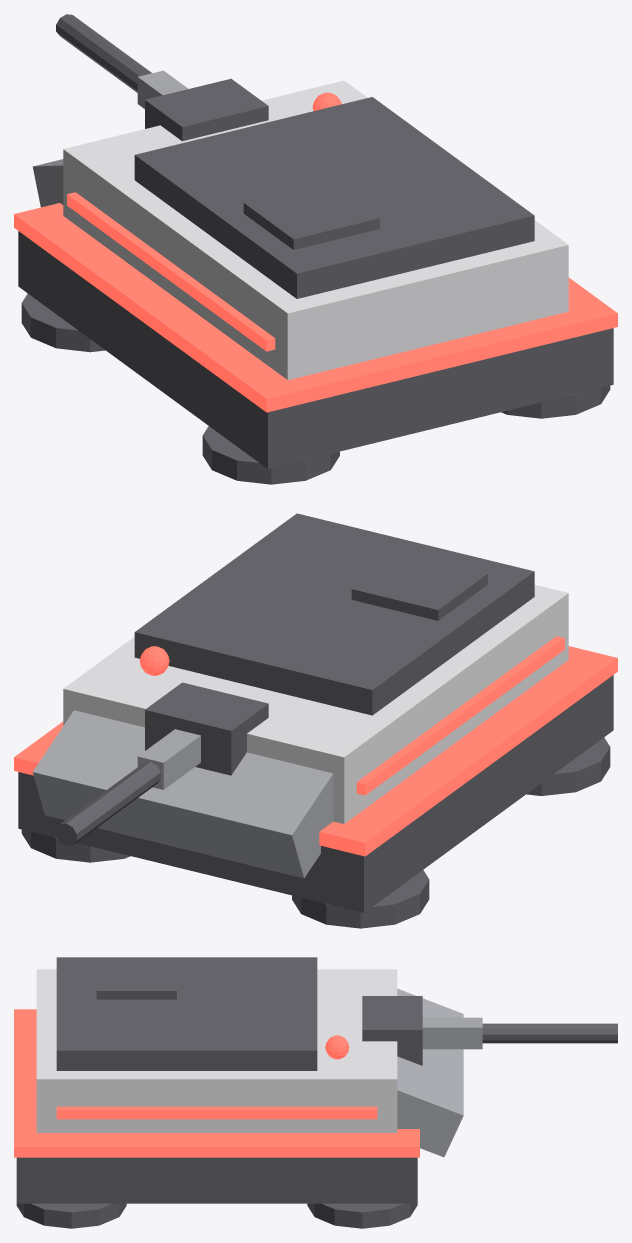
File: jp_tora.glb
3 views of the same model, one above another, from view 1: azimuth 30°, elevation 25°; view 2: azimuth 150°, elevation 25°; view 3: azimuth 270°, elevation 25° (orthographic). The views are drawn at different scales.
Visible parts, largest first — view 1: Deck, Hull, Skirt, SkirtTrim, Hatch, Mantlet, StripR, Pad1, Barrel, Pad-1, Pad-1.001, NosePlate (+1 smaller); view 2: Deck, Hull, NosePlate, Skirt, SkirtTrim, Mantlet, Hatch, StripR, Pad-1, Barrel, Pad1, BarrelShroud (+2 smaller); view 3: Hull, Deck, Skirt, SkirtTrim, NosePlate, StripL, Hatch, Mantlet, Barrel, Pad1.001, Pad-1.001, BarrelShroud (+1 smaller).
Part boxes in pixels (x1,y1,x2,y2): Deck: (134, 97, 534, 298); Hull: (63, 80, 568, 379); Skirt: (18, 231, 613, 468); SkirtTrim: (14, 203, 617, 412); Hatch: (243, 182, 379, 249); Mantlet: (145, 78, 268, 141); StripR: (67, 192, 275, 351); Pad1: (202, 426, 339, 484); Barrel: (56, 14, 151, 92); Pad-1: (21, 293, 105, 352); Pad-1.001: (501, 385, 610, 418); NosePlate: (32, 159, 63, 207); Deck: (134, 513, 534, 715); Hull: (63, 585, 568, 823); NosePlate: (32, 710, 333, 878); Skirt: (18, 675, 613, 912); SkirtTrim: (14, 646, 617, 856); Mantlet: (145, 682, 268, 775); Hatch: (351, 552, 487, 620); StripR: (356, 636, 564, 795); Pad-1: (292, 870, 429, 928); Barrel: (56, 762, 160, 846); Pad1: (527, 737, 610, 795); BarrelShroud: (137, 729, 200, 789); Hull: (36, 969, 397, 1132); Deck: (56, 957, 317, 1070); Skirt: (16, 1157, 417, 1203); SkirtTrim: (14, 1009, 419, 1157); NosePlate: (397, 988, 463, 1157); StripL: (56, 1106, 377, 1119); Hatch: (96, 957, 176, 999); Mantlet: (362, 996, 422, 1065); Barrel: (482, 1023, 617, 1043); Pad1.001: (307, 1203, 417, 1228); Pad-1.001: (16, 1203, 126, 1228); BarrelShroud: (422, 1017, 482, 1049).
Size of the model in its own units: 3.6 by 1.78 by 6.03.
